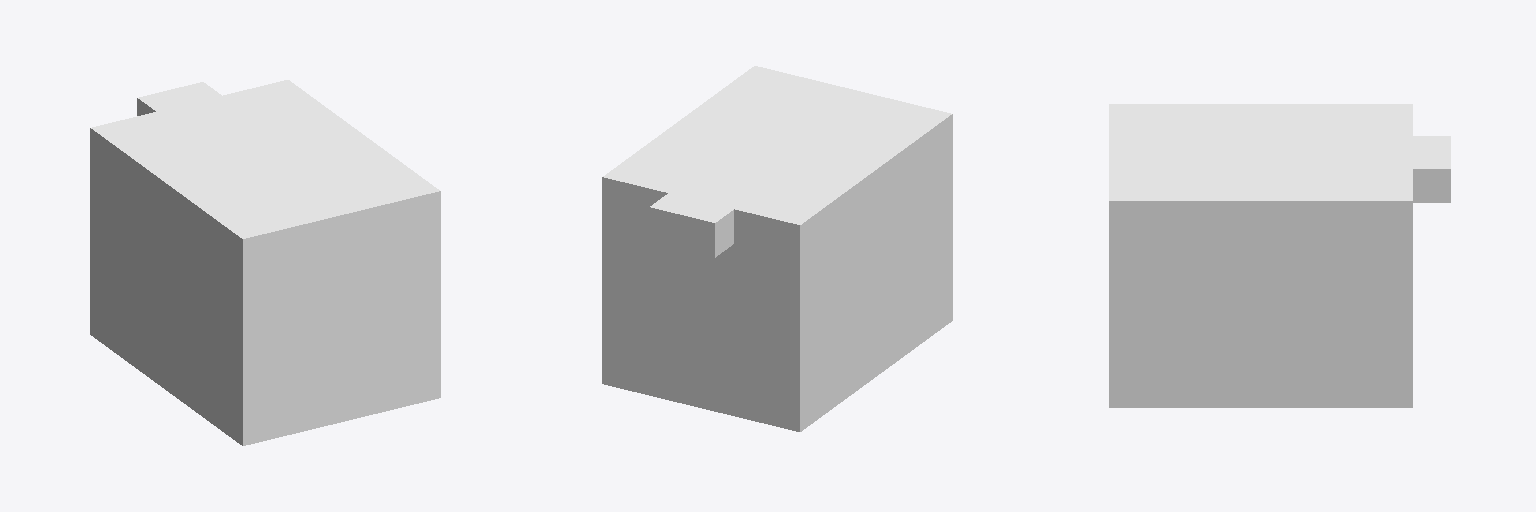
File: Loren-5.obj
The picture shows the model from 3 angles: view 1: azimuth 30°, elevation 25°; view 2: azimuth 150°, elevation 25°; view 3: azimuth 270°, elevation 25°; orthographic projection.
Parts seen in each view (by area): view 1: object 1; view 2: object 1; view 3: object 1.
Part boxes in pixels (x1,y1,x2,y2): object 1: (90,80,440,445); object 1: (602,66,952,431); object 1: (1109,104,1450,407).
Size of the model in its own units: 0.6 by 0.6 by 0.9.